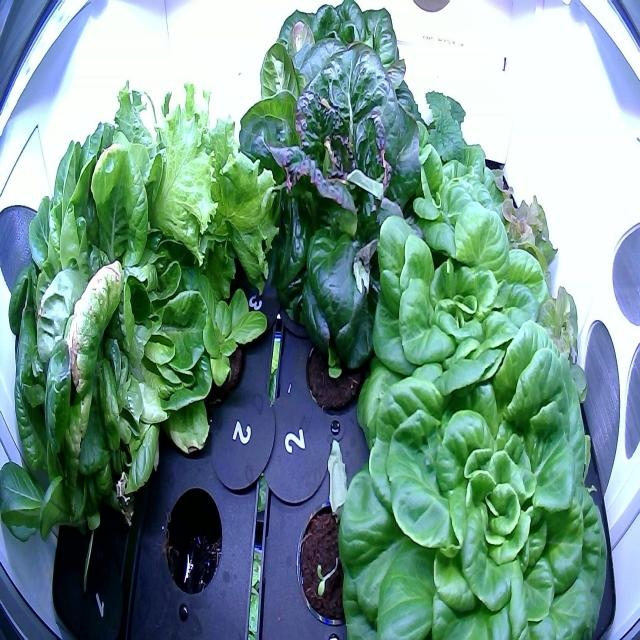Ready: (0, 106, 211, 547), (330, 311, 614, 638), (226, 39, 422, 374), (350, 193, 560, 417), (232, 0, 433, 180), (368, 132, 514, 269)
empty_pod: (157, 482, 228, 603)
germination: (286, 492, 384, 633), (298, 312, 376, 422)
young: (190, 279, 272, 394)
